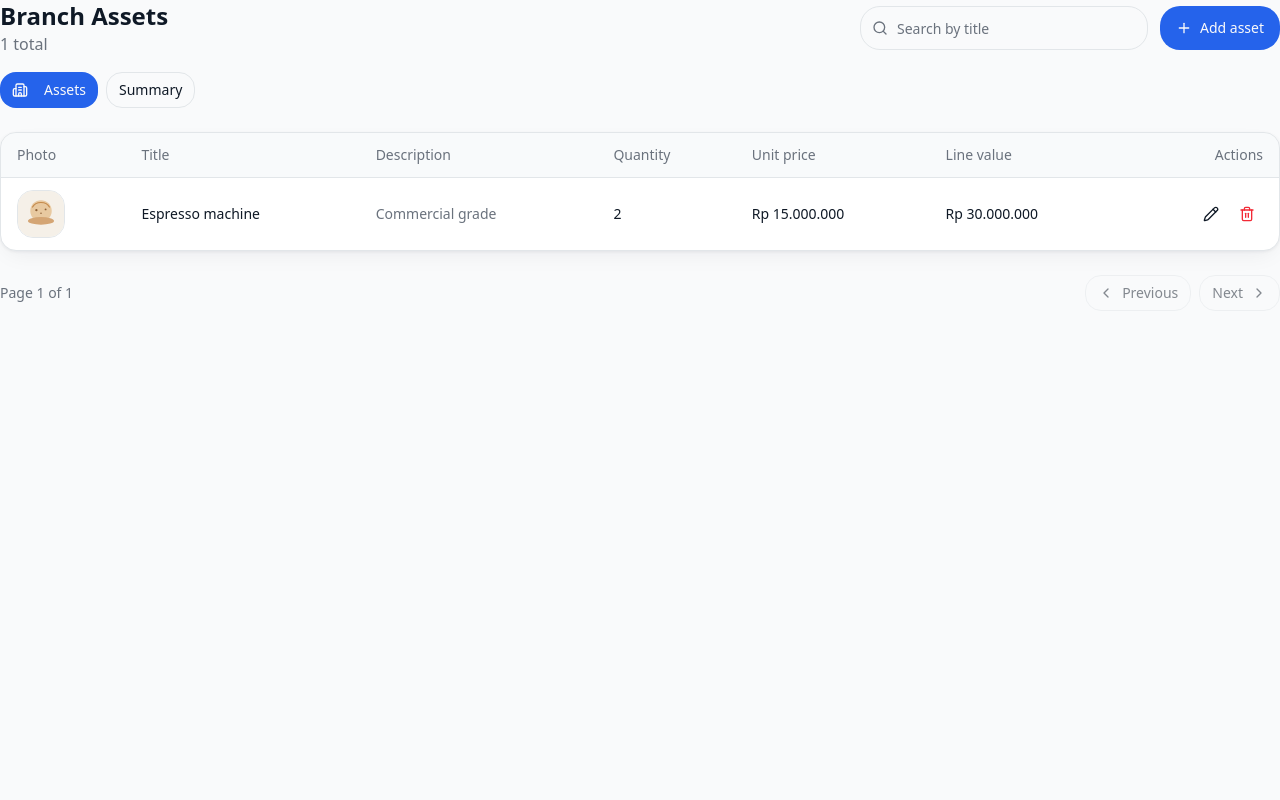
AdminBranchAssetsPage › creates an asset from the dialog
The image size is (1280, 800).
Expected: the text "Espresso machine" is shown, [126,178,360,250]
Click the button "Add asset" at (1220, 28), box [1160,6,1279,50]
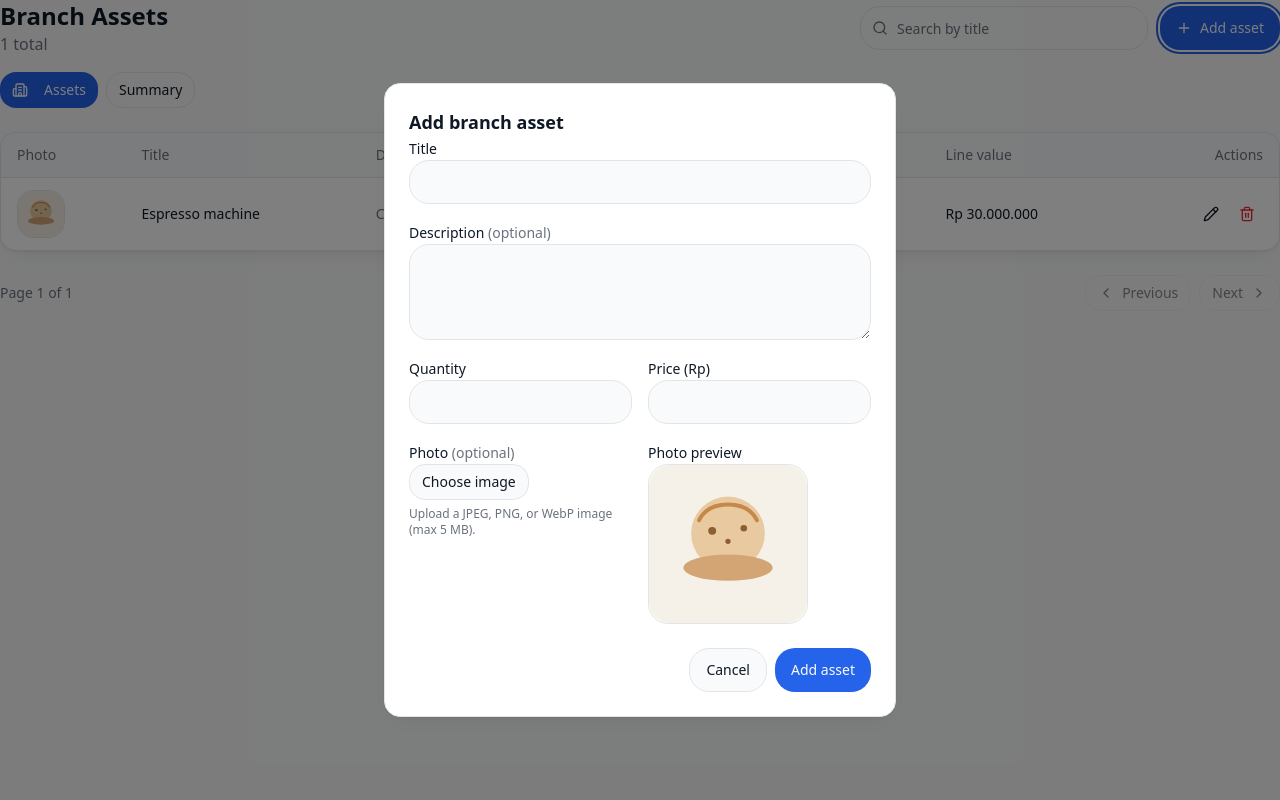
Type "Dining table" into the field labelled "Title" at (640, 182), box [409,160,871,204]
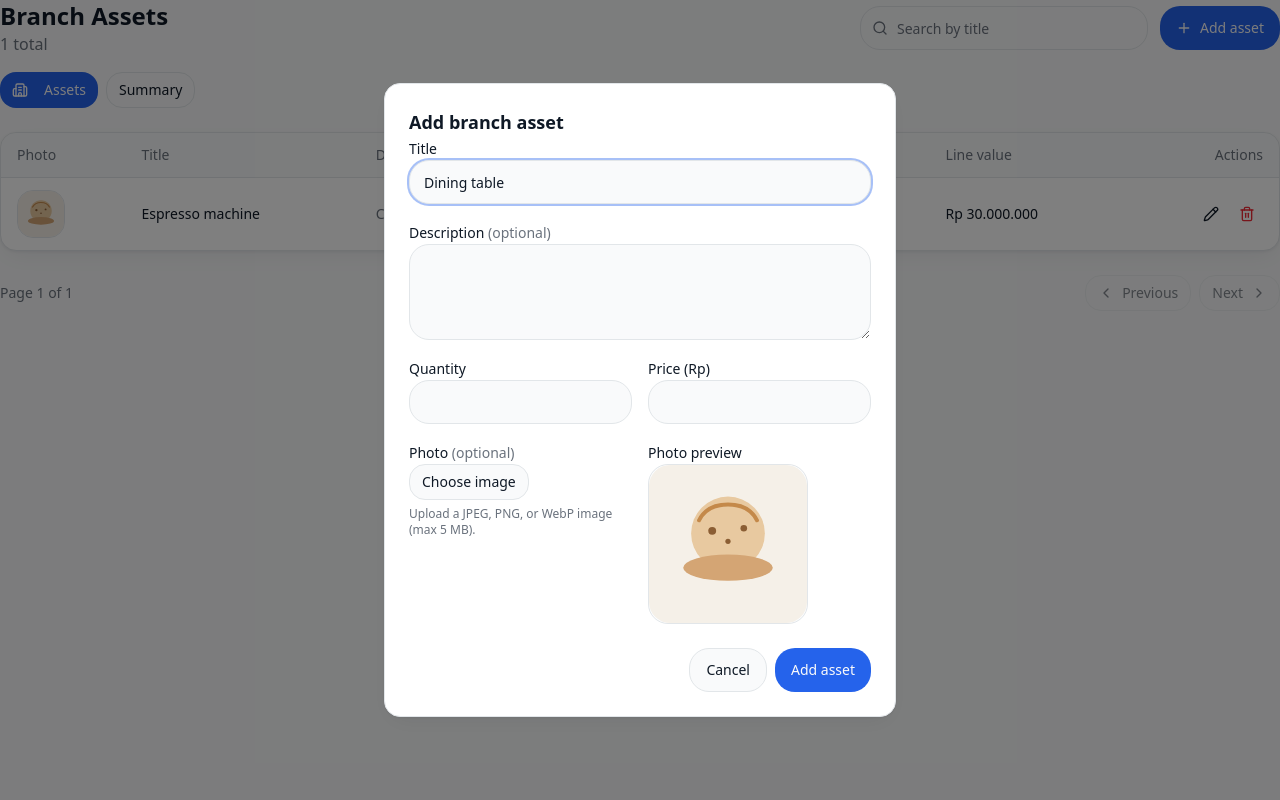
Type "4" into the number field labelled "Quantity" at (520, 402), box [409,380,632,424]
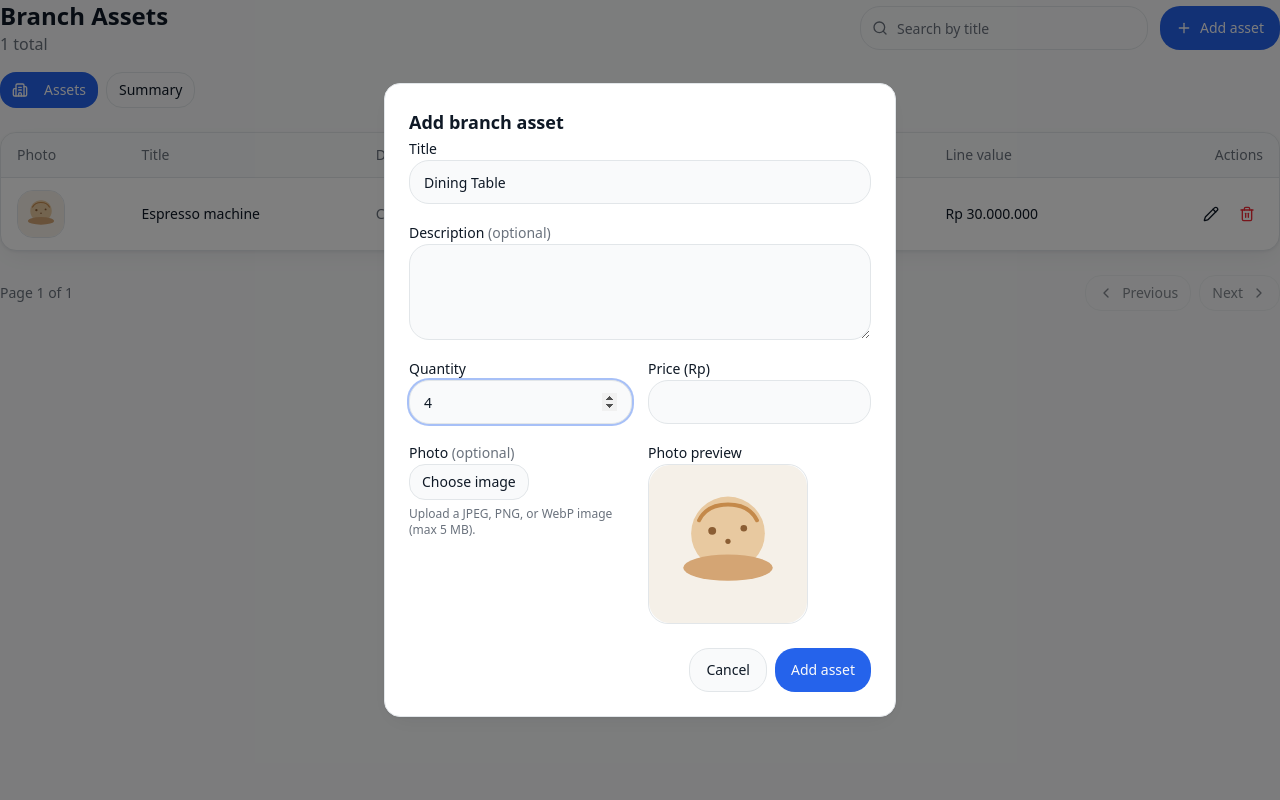
Type "2500000" into the number field labelled "Price (Rp)" at (760, 402), box [648,380,871,424]
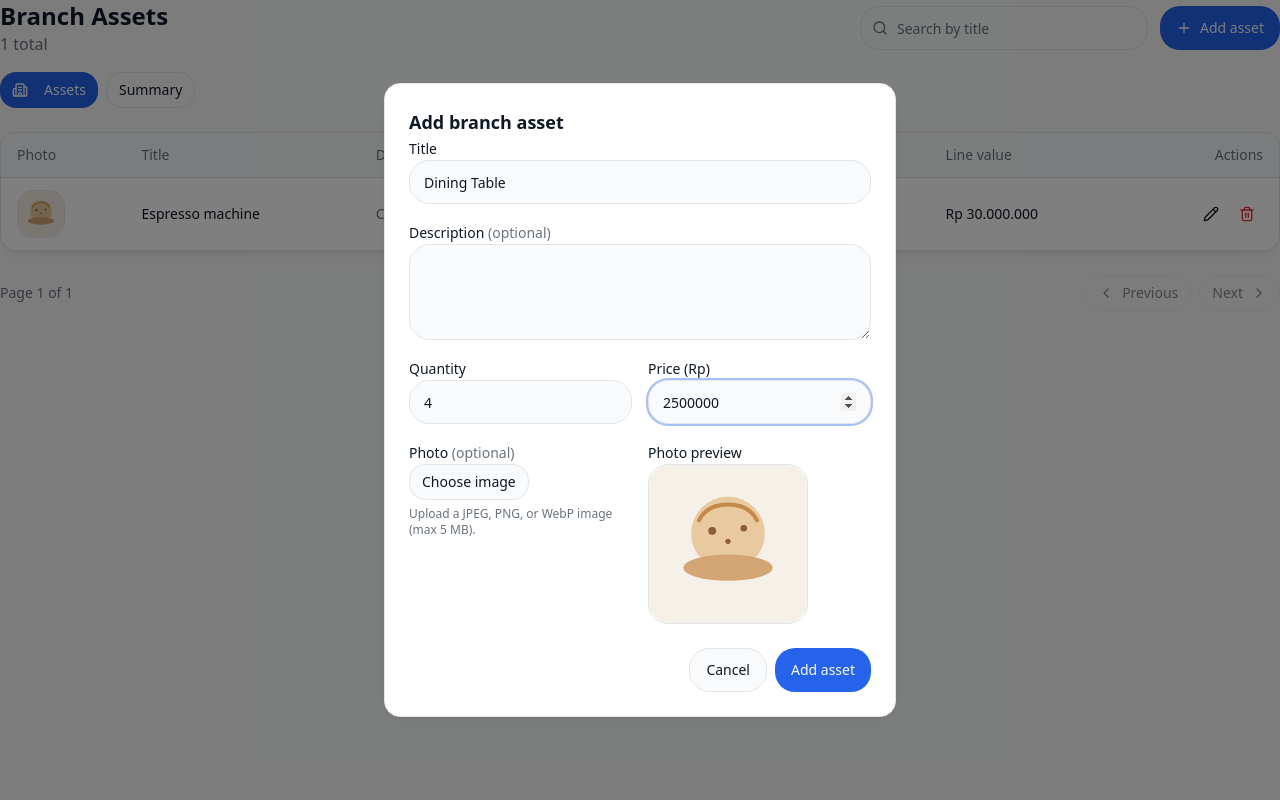
Click the button "Add asset" at (823, 670), box [775,648,871,692]
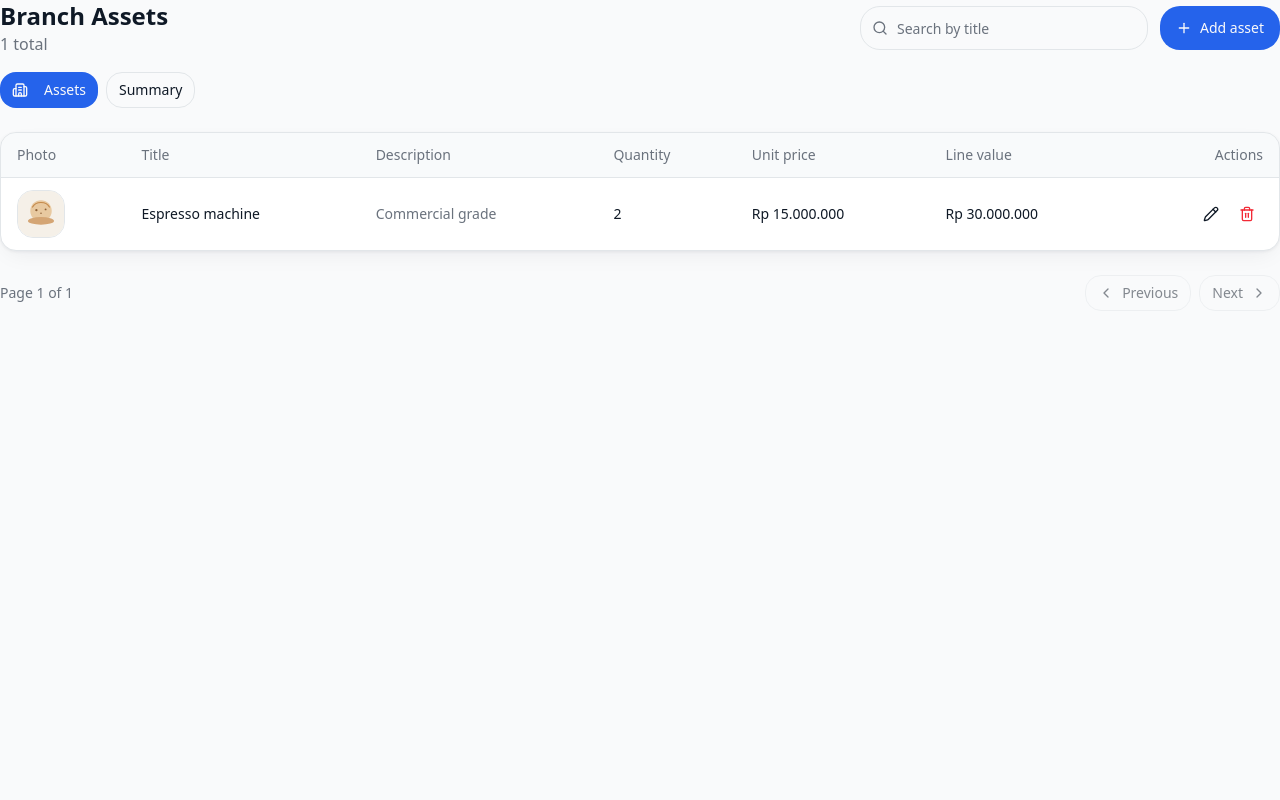
Expected: the dialog is gone
